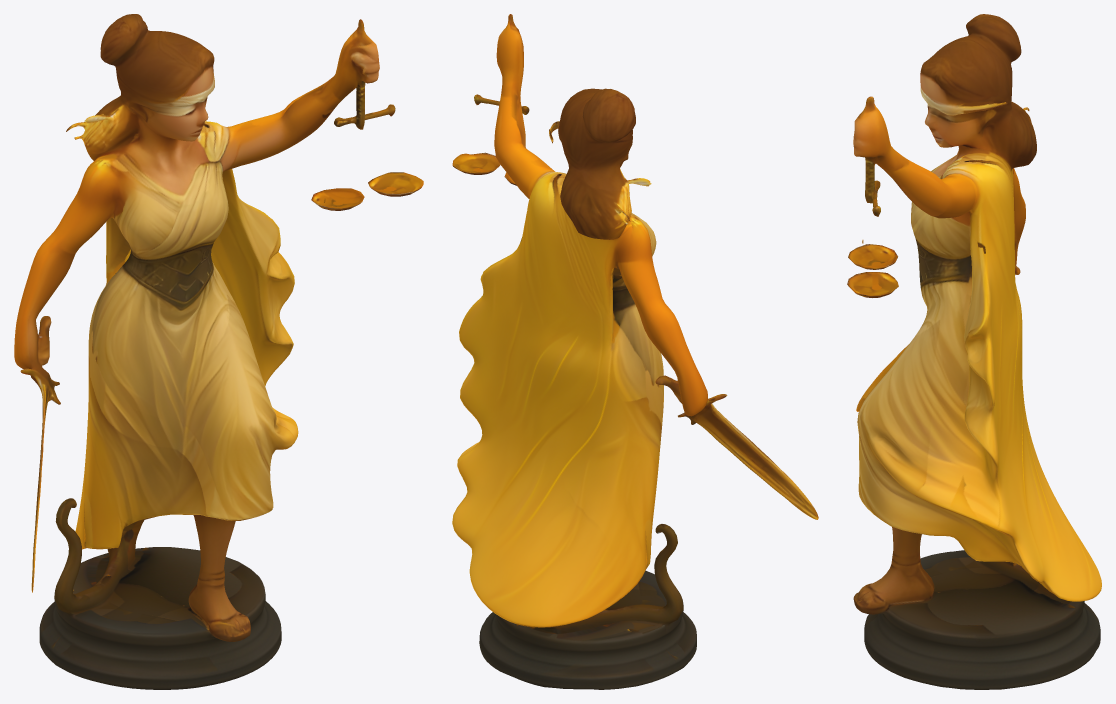
The model's file is greek roman blind justice law goddess.glb.
The picture shows the model from 3 angles, left to right: view 1: azimuth 30°, elevation 25°; view 2: azimuth 150°, elevation 25°; view 3: azimuth 270°, elevation 25°; orthographic projection. The views are drawn at different scales.
Visible parts, largest first — view 1: model; view 2: model; view 3: model.
Boxes of the visible parts, x1=… form: model: x1=14, y1=14, x2=423, y2=689; model: x1=452, y1=14, x2=818, y2=689; model: x1=847, y1=14, x2=1101, y2=689.
Size of the model in its own units: 1.26 by 1.9 by 0.716.
1 material, 1 textured.
